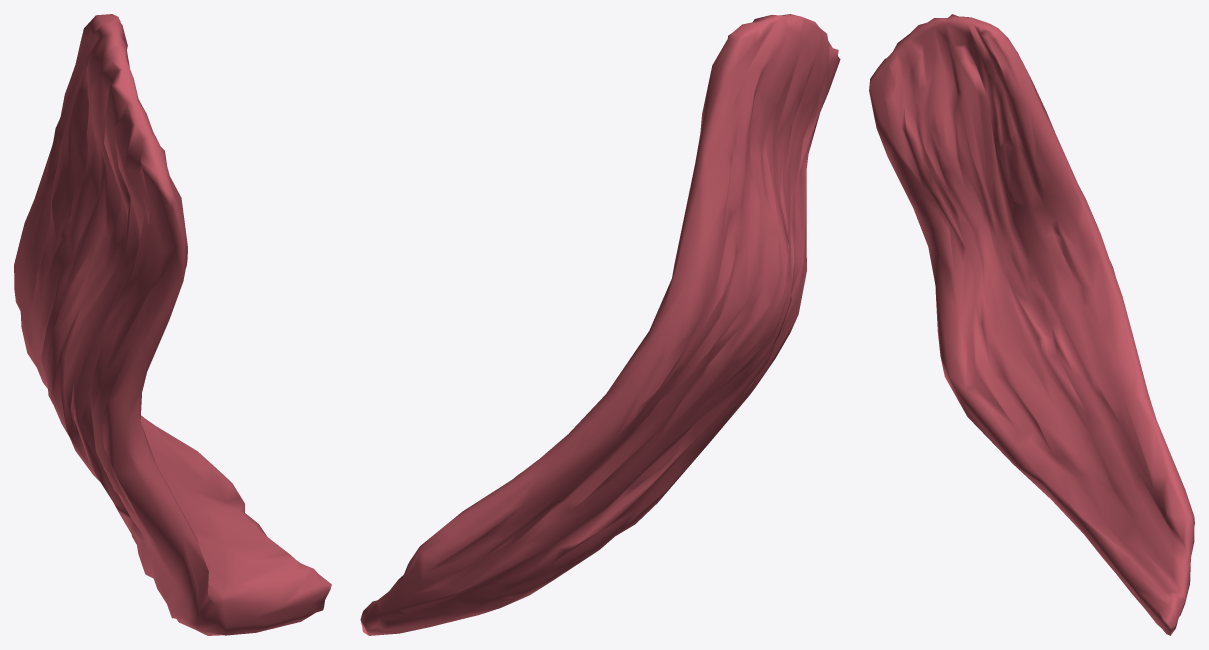
The picture shows the model from 3 angles, left to right: view 1: azimuth 30°, elevation 25°; view 2: azimuth 150°, elevation 25°; view 3: azimuth 270°, elevation 25°; orthographic projection. The views are drawn at different scales.
Parts seen in each view (by area): view 1: 右侧环甲肌斜部; view 2: 右侧环甲肌斜部; view 3: 右侧环甲肌斜部.
Part boxes in pixels (x1,y1,x2,y2): 右侧环甲肌斜部: (14, 14, 331, 635); 右侧环甲肌斜部: (360, 14, 840, 635); 右侧环甲肌斜部: (869, 14, 1194, 635).
Bounding box in the file's own units: 0.013 × 0.0233 × 0.0137.
